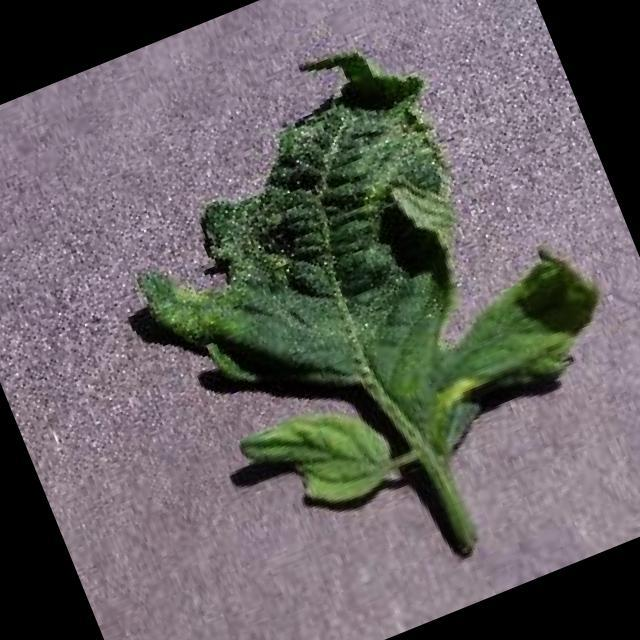Tomato mosaic virus leaf: (74, 0, 638, 550)
